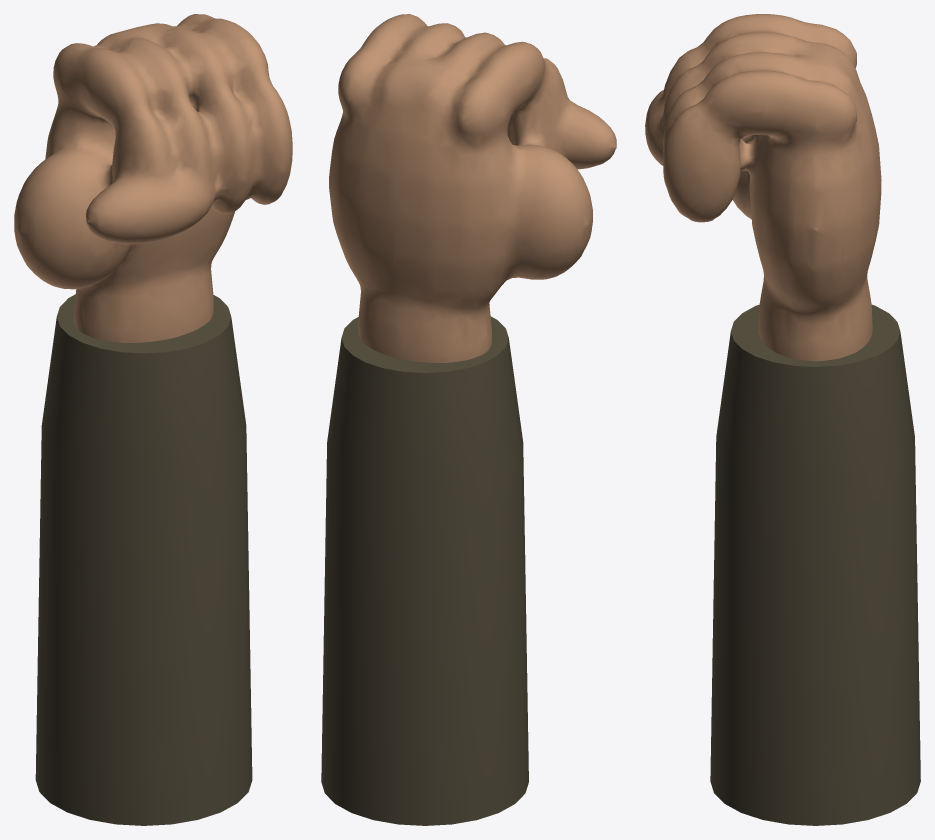
The model's file is hand_grip.glb.
3 views of the same model, side by side, from view 1: azimuth 30°, elevation 25°; view 2: azimuth 150°, elevation 25°; view 3: azimuth 270°, elevation 25° (orthographic). The views are drawn at different scales.
Parts seen in each view (by area): view 1: Sleeve, HandSkin; view 2: Sleeve, HandSkin; view 3: Sleeve, HandSkin.
Boxes of the visible parts, x1=… form: Sleeve: x1=35, y1=294, x2=252, y2=825; HandSkin: x1=14, y1=14, x2=292, y2=342; Sleeve: x1=321, y1=316, x2=528, y2=825; HandSkin: x1=329, y1=14, x2=616, y2=362; Sleeve: x1=710, y1=304, x2=920, y2=825; HandSkin: x1=645, y1=14, x2=881, y2=361.
Bounding box in the file's own units: 0.0933 × 0.2783 × 0.0943.
